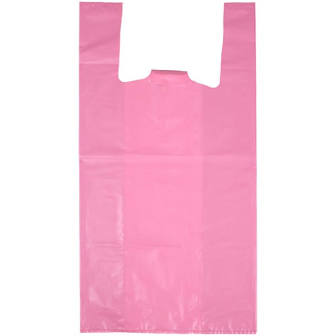PlasticBag: (66, 1, 273, 332)
